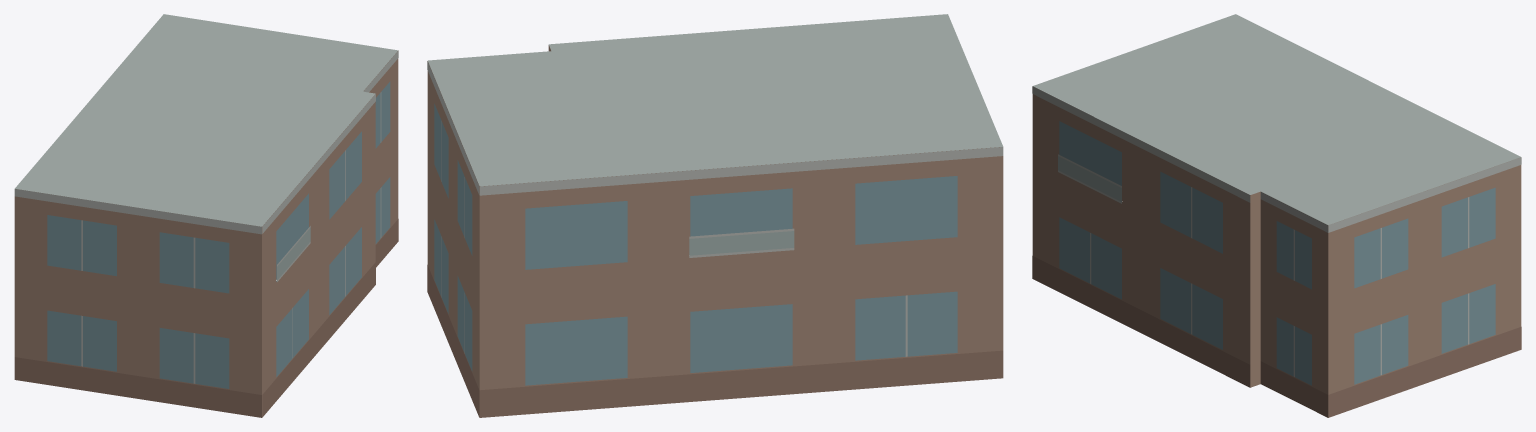
The model's file is survey-upis-32910008.glb.
3 renders of one model, left to right at view 1: azimuth 30°, elevation 25°; view 2: azimuth 150°, elevation 25°; view 3: azimuth 270°, elevation 25°, orthographic. The views are drawn at different scales.
Visible parts, largest first — view 1: survey-upis-32910008.tmp; view 2: survey-upis-32910008.tmp; view 3: survey-upis-32910008.tmp.
Part boxes in pixels (box(x1,y1,x2,y2)): survey-upis-32910008.tmp: box(14, 14, 398, 417); survey-upis-32910008.tmp: box(427, 14, 1003, 417); survey-upis-32910008.tmp: box(1032, 14, 1521, 417).
Size of the model in its own units: 14.36 by 6.1 by 14.04.
